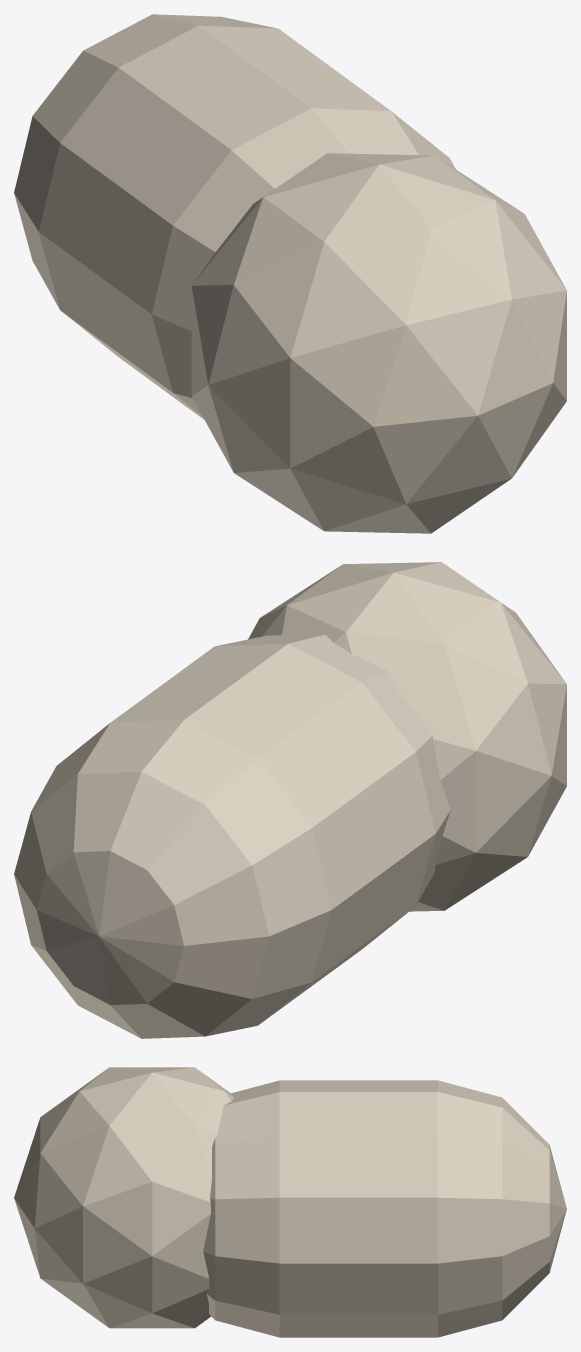
File: _rleg-shank.glb
The picture shows the model from 3 angles, top to bottom: view 1: azimuth 30°, elevation 25°; view 2: azimuth 150°, elevation 25°; view 3: azimuth 270°, elevation 25°; orthographic projection. The views are drawn at different scales.
Size of the model in its own units: 0.1323 by 0.1278 by 0.2557.
